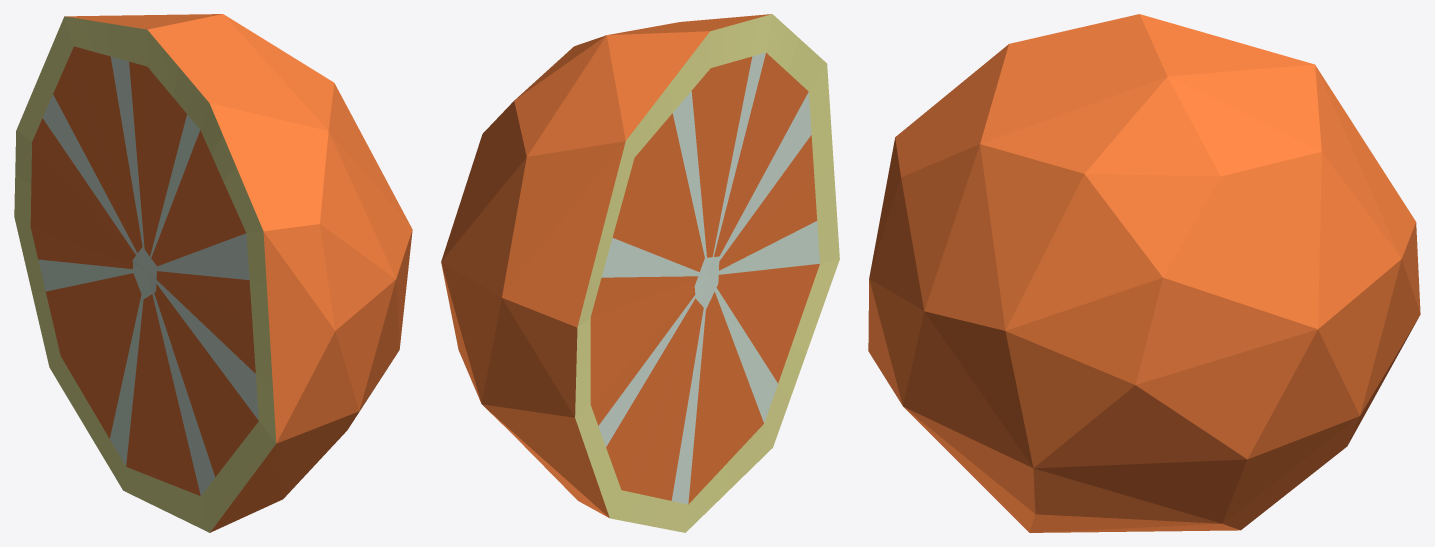
The model's file is HalfOrange.fbx.
3 renders of one model, left to right at view 1: azimuth 30°, elevation 25°; view 2: azimuth 150°, elevation 25°; view 3: azimuth 270°, elevation 25°, orthographic. The views are drawn at different scales.
Visible parts, largest first — view 1: HalfOrange; view 2: HalfOrange; view 3: HalfOrange.
Boxes of the visible parts, x1,y1,x2,y2 form: HalfOrange: [14, 14, 412, 532]; HalfOrange: [441, 14, 839, 532]; HalfOrange: [868, 14, 1420, 532].
Size of the model in its own units: 0.0506 by 0.0997 by 0.0989.
